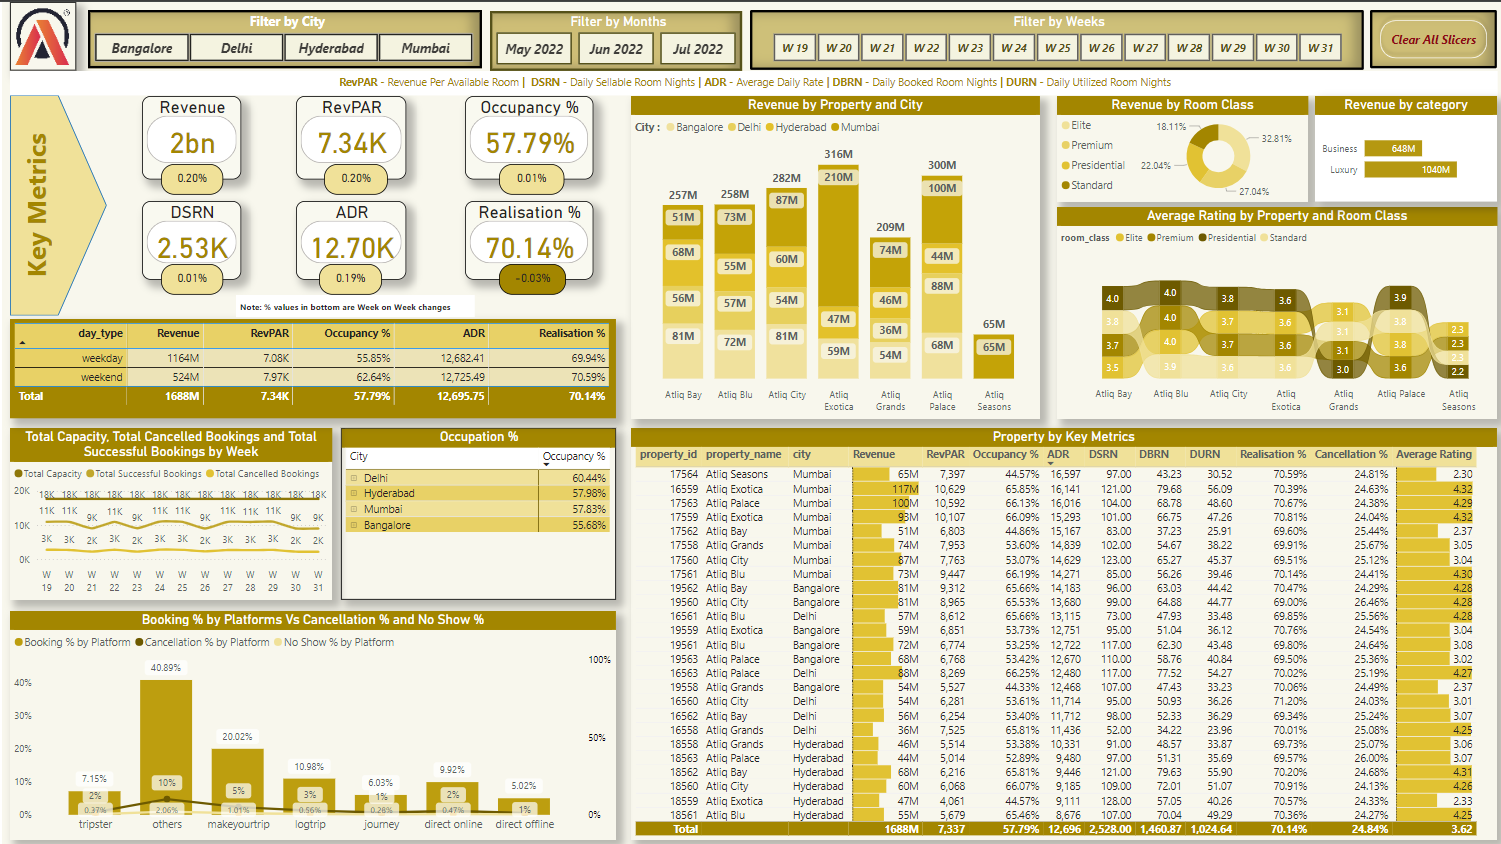

What the dashboard file says about the page in this screenshot:
{"tool":"powerbi","page":{"name":"AtliQ Grand","canvas":[1920,1080],"ordinal":0},"visuals":[{"type":"tableEx","title":"Property by Key Metrics","fields":{"Values":["dim_hotels.property_id","dim_hotels.property_name","dim_hotels.city","key_measures.revenue","key_measures.RevPAR","key_measures.Occupancy %","key_measures.Average Daily Rate","key_measures.Daily Sellable Room Night (DSRN)","key_measures.Daily Booked Room Nights (DBRN)","key_measures.Daily Utilized Room Nights (DURN)","key_measures.Realization %","key_measures.Cancellation %"]},"box":[798.6,540,1098.6,522.9],"z":0},{"type":"advancedSlicerVisual","fields":{"Values":["dim_hotels.city"]},"box":[108.6,10,500,74.3],"z":1000},{"type":"advancedSlicerVisual","title":"Filter by Months","fields":{"Values":["dim_date.mmm yy"]},"box":[618.8,11.2,320,76.2],"z":2000},{"type":"slicer","title":"Filter by Weeks","fields":{"Values":["dim_date.week no"]},"box":[948.8,10,778.8,76.2],"z":3000},{"type":"cardVisual","title":"Revenue","fields":{"Data":["key_measures.Revenue"]},"box":[177.5,118.8,126.2,106.2],"z":4000},{"type":"card","title":".","fields":{"Values":["key_measures.Revenue WoW change %"]},"box":[201.2,205,78.8,38.8],"z":5000},{"type":"pivotTable","title":"Occupancy %","fields":{"Rows":["dim_hotels.city","dim_hotels.property_name","dim_hotels.category","dim_rooms.room_class"],"Values":["key_measures.Occupancy %"]},"box":[430,540,348.8,217.5],"z":6000},{"type":"lineStackedColumnComboChart","title":"Revenue by Property and City","fields":{"Category":["dim_hotels.property_name"],"Series":["dim_hotels.city"],"Y":["key_measures.Revenue"]},"box":[798.8,118.8,518.8,410],"z":7000},{"type":"cardVisual","title":"RevPAR","fields":{"Data":["key_measures.RevPAR"]},"box":[372.5,118.8,140,106.2],"z":8000},{"type":"card","title":".","fields":{"Values":["key_measures.Revenue WoW change %"]},"box":[408.8,205,81.2,38.8],"z":9000},{"type":"cardVisual","title":"DSRN","fields":{"Data":["key_measures.DSRN"]},"box":[177.5,252.5,126.2,100],"z":10000},{"type":"card","title":".","fields":{"Values":["key_measures.DSRN WoW change %"]},"box":[201.2,332.5,78.8,38.8],"z":11000},{"type":"cardVisual","title":"ADR","fields":{"Data":["key_measures.ADR"]},"box":[372.5,252.5,140,100],"z":12000},{"type":"card","title":".","fields":{"Values":["key_measures.ADR WoW change %"]},"box":[402.5,332.5,80,38.8],"z":13000},{"type":"cardVisual","title":"Occupancy %","fields":{"Data":["key_measures.Occupancy %"]},"box":[587.5,118.8,162.5,106.2],"z":14000},{"type":"card","title":".","fields":{"Values":["key_measures.Occupancy WoW change %"]},"box":[631.2,205,82.5,38.8],"z":15000},{"type":"cardVisual","title":"Realisation %","fields":{"Data":["key_measures.Realisation %"]},"box":[587.5,252.5,162.5,100],"z":16000},{"type":"card","title":".","fields":{"Values":["key_measures.Realisation WoW change %"]},"box":[631.2,332.5,85,38.8],"z":17000},{"type":"lineChart","title":"Total Capacity, Total Cancelled Bookings and Total Successful Bookings by  Week","fields":{"Y":["key_measures.Total Capacity","key_measures.Total Successful Bookings","key_measures.Total Cancelled Bookings"],"Category":["dim_date.week no"]},"box":[10,540,408.8,217.5],"z":18000},{"type":"tableEx","title":"Key Metrics by Day Type","fields":{"Values":["dim_date.day_type","key_measures.Revenue","key_measures.RevPAR","key_measures.Occupancy %","key_measures.ADR","key_measures.Realisation %"]},"box":[10,402.5,768.8,126.2],"z":19000},{"type":"lineClusteredColumnComboChart","title":"Booking % by Platforms Vs Cancellation % and No Show %","fields":{"Category":["fact_bookings.booking_platform"],"Y":["key_measures.Booking % by Platform"],"Y2":["key_measures.Cancellation Count by Platform","key_measures.No Show % by Platform"]},"box":[10,772.5,768.8,290],"z":20000},{"type":"actionButton","box":[1735.7,10,161.4,74.3],"z":21000},{"type":"image","box":[10,0,84.3,87.1],"z":22000},{"type":"donutChart","title":"Revenue by Room Class","fields":{"Category":["dim_rooms.room_class"],"Y":["key_measures.Revenue"]},"box":[1338.8,118.8,318.8,133.8],"z":23000},{"type":"shape","title":"Key Metrics","box":[10,118.6,122.9,280],"z":24000},{"type":"textbox","box":[10,87.5,1887.5,31.2],"z":25000},{"type":"ribbonChart","title":"Average Rating by Property and Room Class","fields":{"Category":["dim_hotels.property_name"],"Y":["key_measures.Average Rating"],"Series":["dim_rooms.room_class"]},"box":[1338.8,260,558.8,268.8],"z":26000},{"type":"barChart","fields":{"Category":["dim_hotels.category"],"Y":["key_measures.Revenue"]},"box":[1666.2,118.8,231.2,133.8],"z":27000},{"type":"textbox","box":[297.5,371.2,302.5,27.5],"z":28000}]}

Visuals, with their boxes in screenshot pixels (x1, y1, x2, y2), scaled from the page's 1920x1080 canvas onto the 1501x844 screenshot:
"Property by Key Metrics" tableEx: <bbox>624, 422, 1483, 831</bbox>
advancedSlicerVisual - dim_hotels.city: <bbox>85, 8, 476, 66</bbox>
"Filter by Months" advancedSlicerVisual: <bbox>484, 9, 734, 68</bbox>
"Filter by Weeks" slicer: <bbox>742, 8, 1351, 67</bbox>
"Revenue" cardVisual: <bbox>139, 93, 237, 176</bbox>
"." card: <bbox>157, 160, 219, 191</bbox>
"Occupancy %" pivotTable: <bbox>336, 422, 609, 592</bbox>
"Revenue by Property and City" lineStackedColumnComboChart: <bbox>624, 93, 1030, 413</bbox>
"RevPAR" cardVisual: <bbox>291, 93, 401, 176</bbox>
"." card: <bbox>320, 160, 383, 191</bbox>
"DSRN" cardVisual: <bbox>139, 197, 237, 275</bbox>
"." card: <bbox>157, 260, 219, 290</bbox>
"ADR" cardVisual: <bbox>291, 197, 401, 275</bbox>
"." card: <bbox>315, 260, 377, 290</bbox>
"Occupancy %" cardVisual: <bbox>459, 93, 586, 176</bbox>
"." card: <bbox>493, 160, 558, 191</bbox>
"Realisation %" cardVisual: <bbox>459, 197, 586, 275</bbox>
"." card: <bbox>493, 260, 560, 290</bbox>
"Total Capacity, Total Cancelled Bookings and Total Successful Bookings by  Week" lineChart: <bbox>8, 422, 327, 592</bbox>
"Key Metrics by Day Type" tableEx: <bbox>8, 315, 609, 413</bbox>
"Booking % by Platforms Vs Cancellation % and No Show %" lineClusteredColumnComboChart: <bbox>8, 604, 609, 830</bbox>
actionButton: <bbox>1357, 8, 1483, 66</bbox>
image: <bbox>8, 0, 74, 68</bbox>
"Revenue by Room Class" donutChart: <bbox>1047, 93, 1296, 197</bbox>
"Key Metrics" shape: <bbox>8, 93, 104, 311</bbox>
textbox: <bbox>8, 68, 1483, 93</bbox>
"Average Rating by Property and Room Class" ribbonChart: <bbox>1047, 203, 1483, 413</bbox>
barChart - dim_hotels.category x key_measures.Revenue: <bbox>1303, 93, 1483, 197</bbox>
textbox: <bbox>233, 290, 469, 312</bbox>
